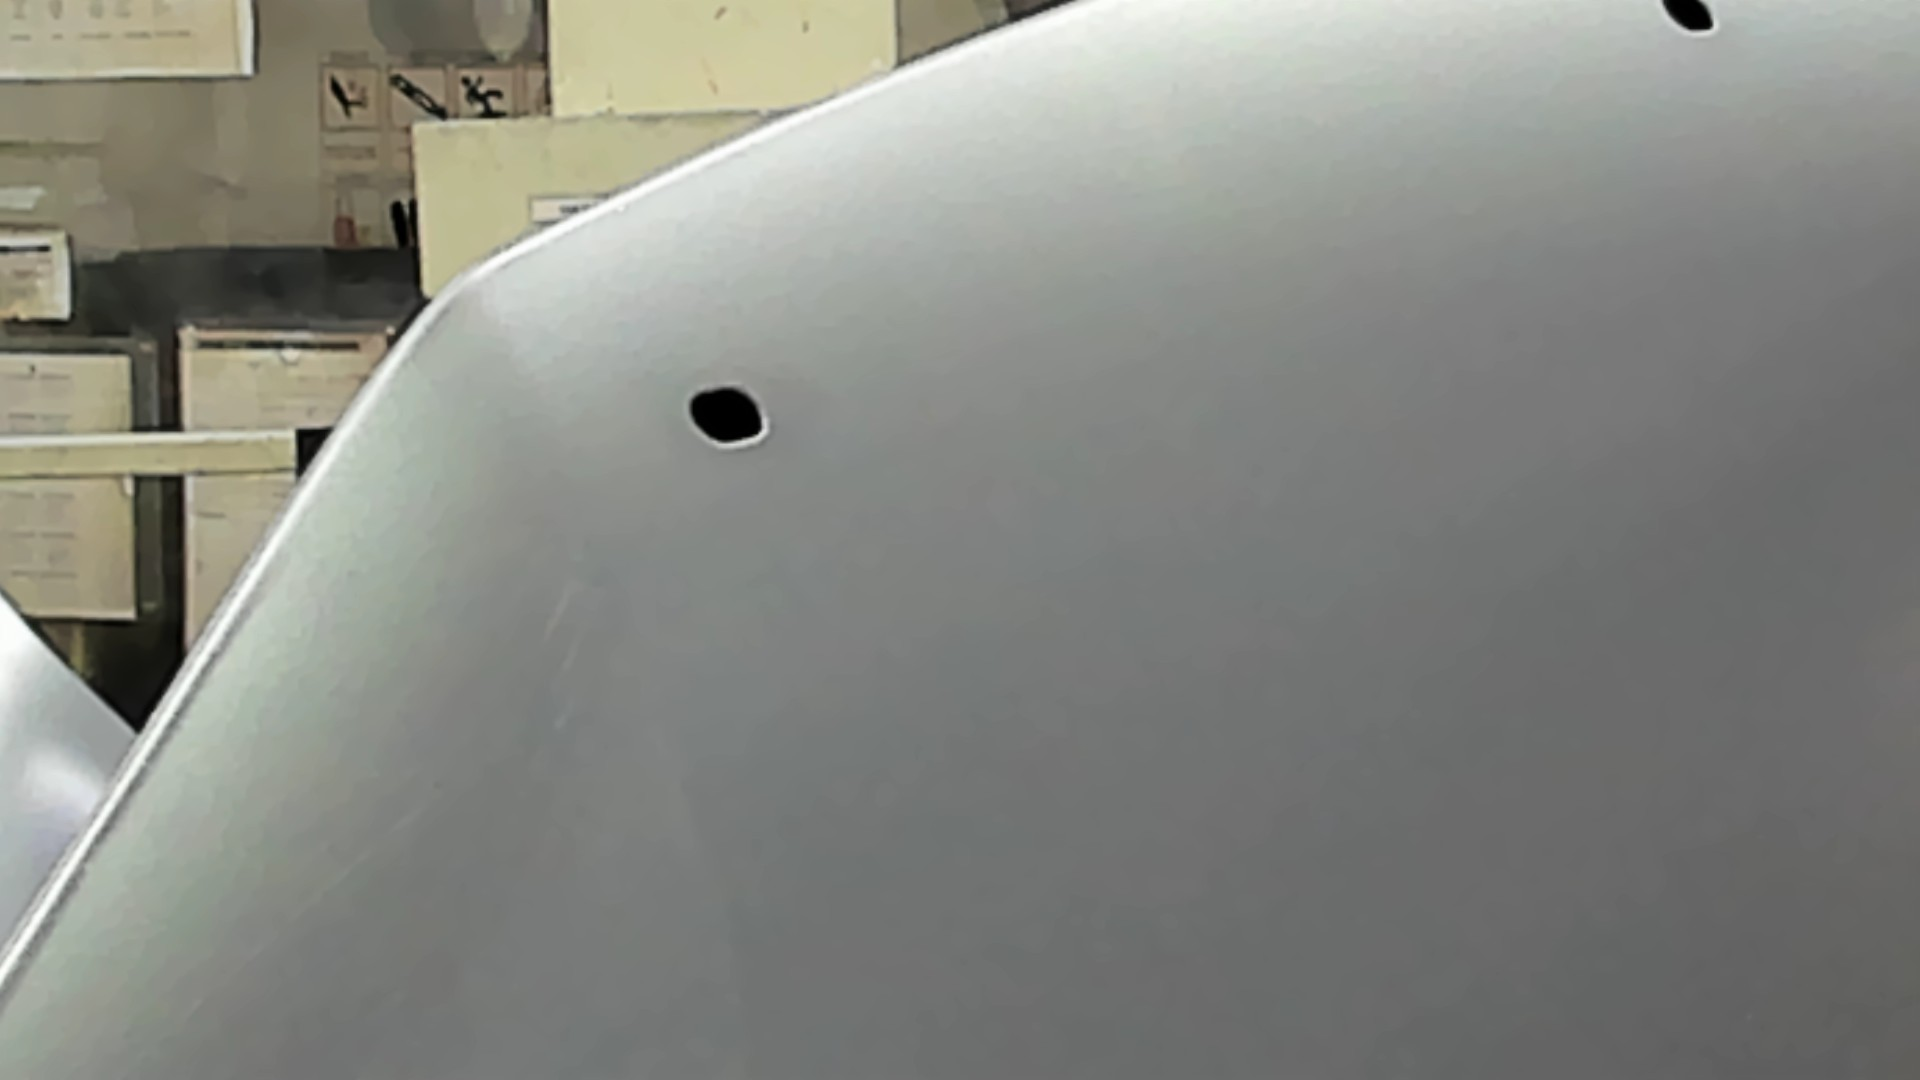amorfo: (679, 382, 778, 451), (1659, 1, 1724, 38)
capo: (866, 129, 1920, 1080)
